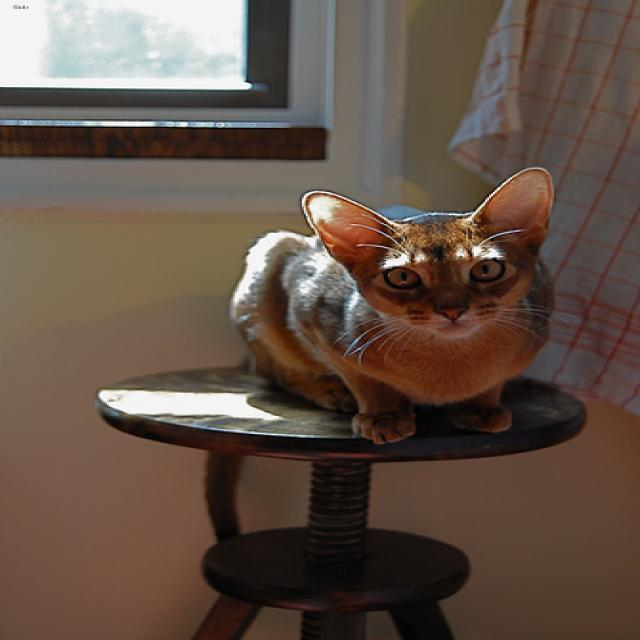Abyssinian: (299, 166, 576, 335)
